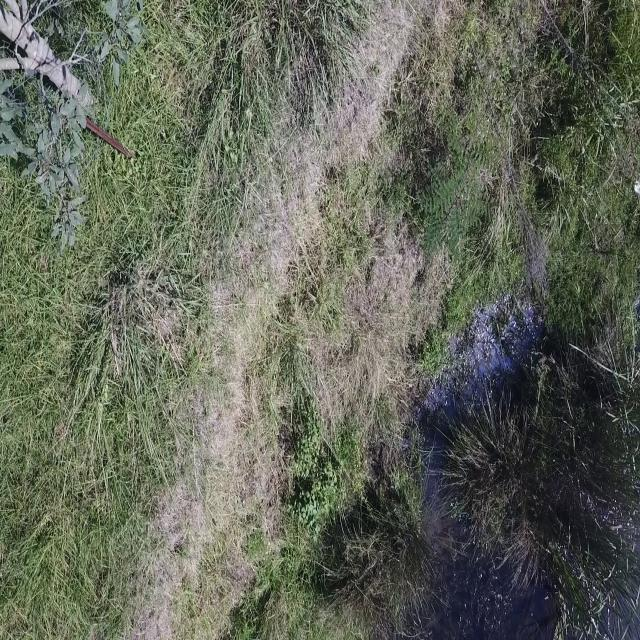Mysore-Thorn-Weed: (415, 111, 499, 263)
